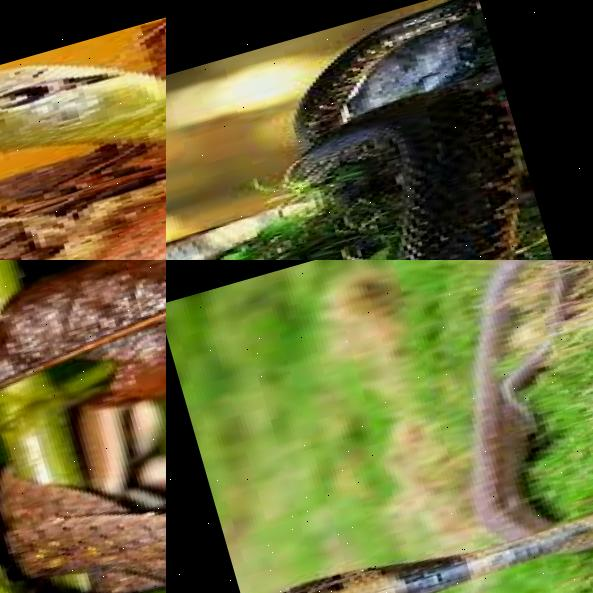snake: (169, 260, 593, 593), (166, 0, 593, 260), (0, 320, 166, 593), (0, 0, 166, 260)
